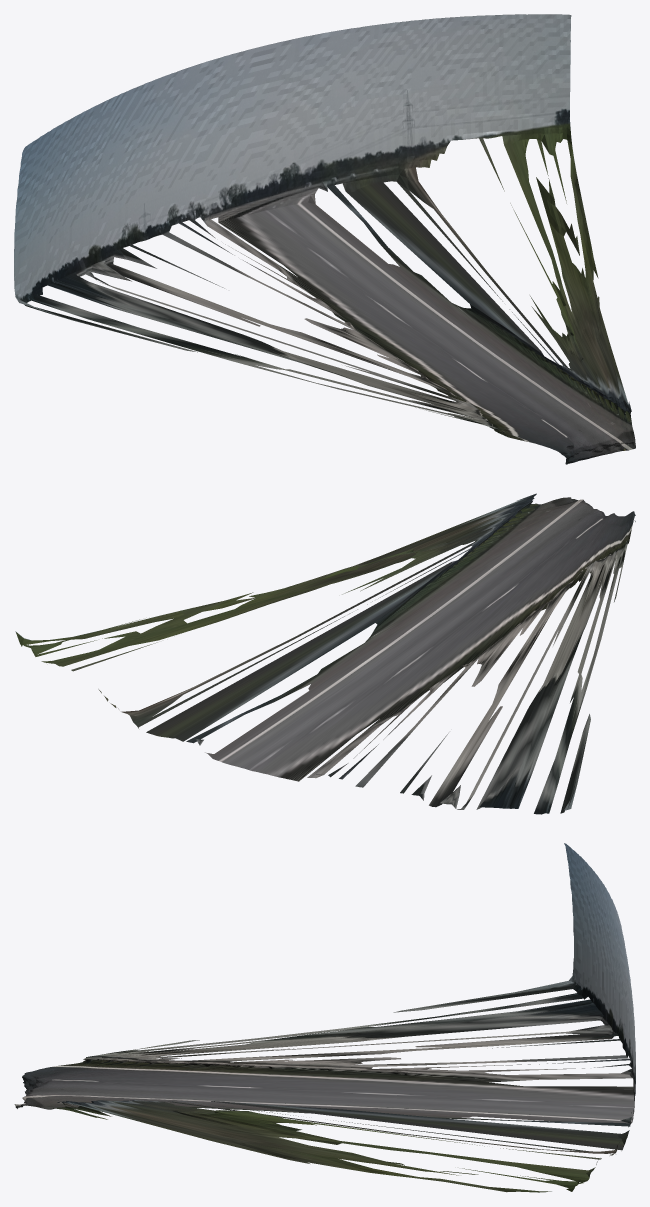
3 renders of one model, top to bottom at view 1: azimuth 30°, elevation 25°; view 2: azimuth 150°, elevation 25°; view 3: azimuth 270°, elevation 25°, orthographic. The views are drawn at different scales.
Parts seen in each view (by area): view 1: defaultobject; view 2: defaultobject; view 3: defaultobject.
Boxes of the visible parts, box(x1,y1,x2,y2) form: defaultobject: box(14, 14, 635, 464); defaultobject: box(15, 493, 635, 814); defaultobject: box(14, 843, 635, 1192).
Bounding box in the file's own units: 41.14 × 12.65 × 44.74.
Materials: 1 (1 with a texture image).
